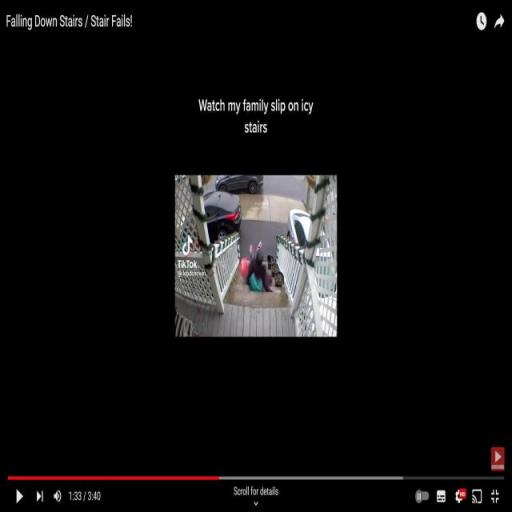Fall: (244, 239, 274, 295)
